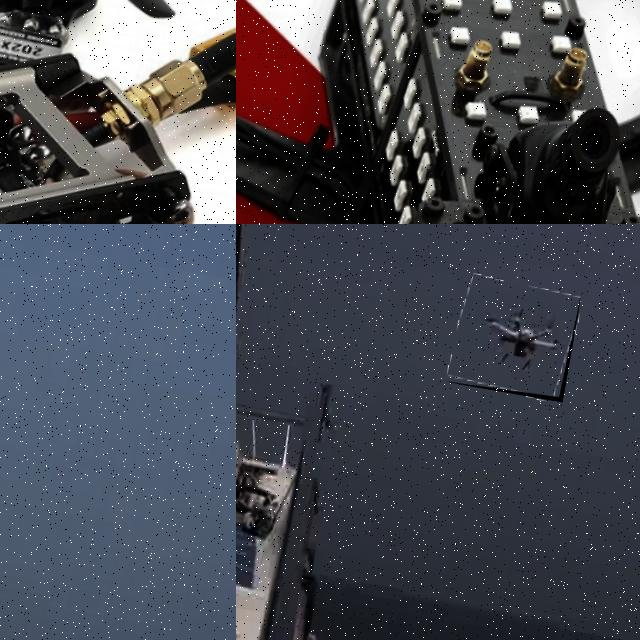0: (446, 274, 580, 402)
drone: (236, 0, 640, 224), (0, 0, 236, 224)
